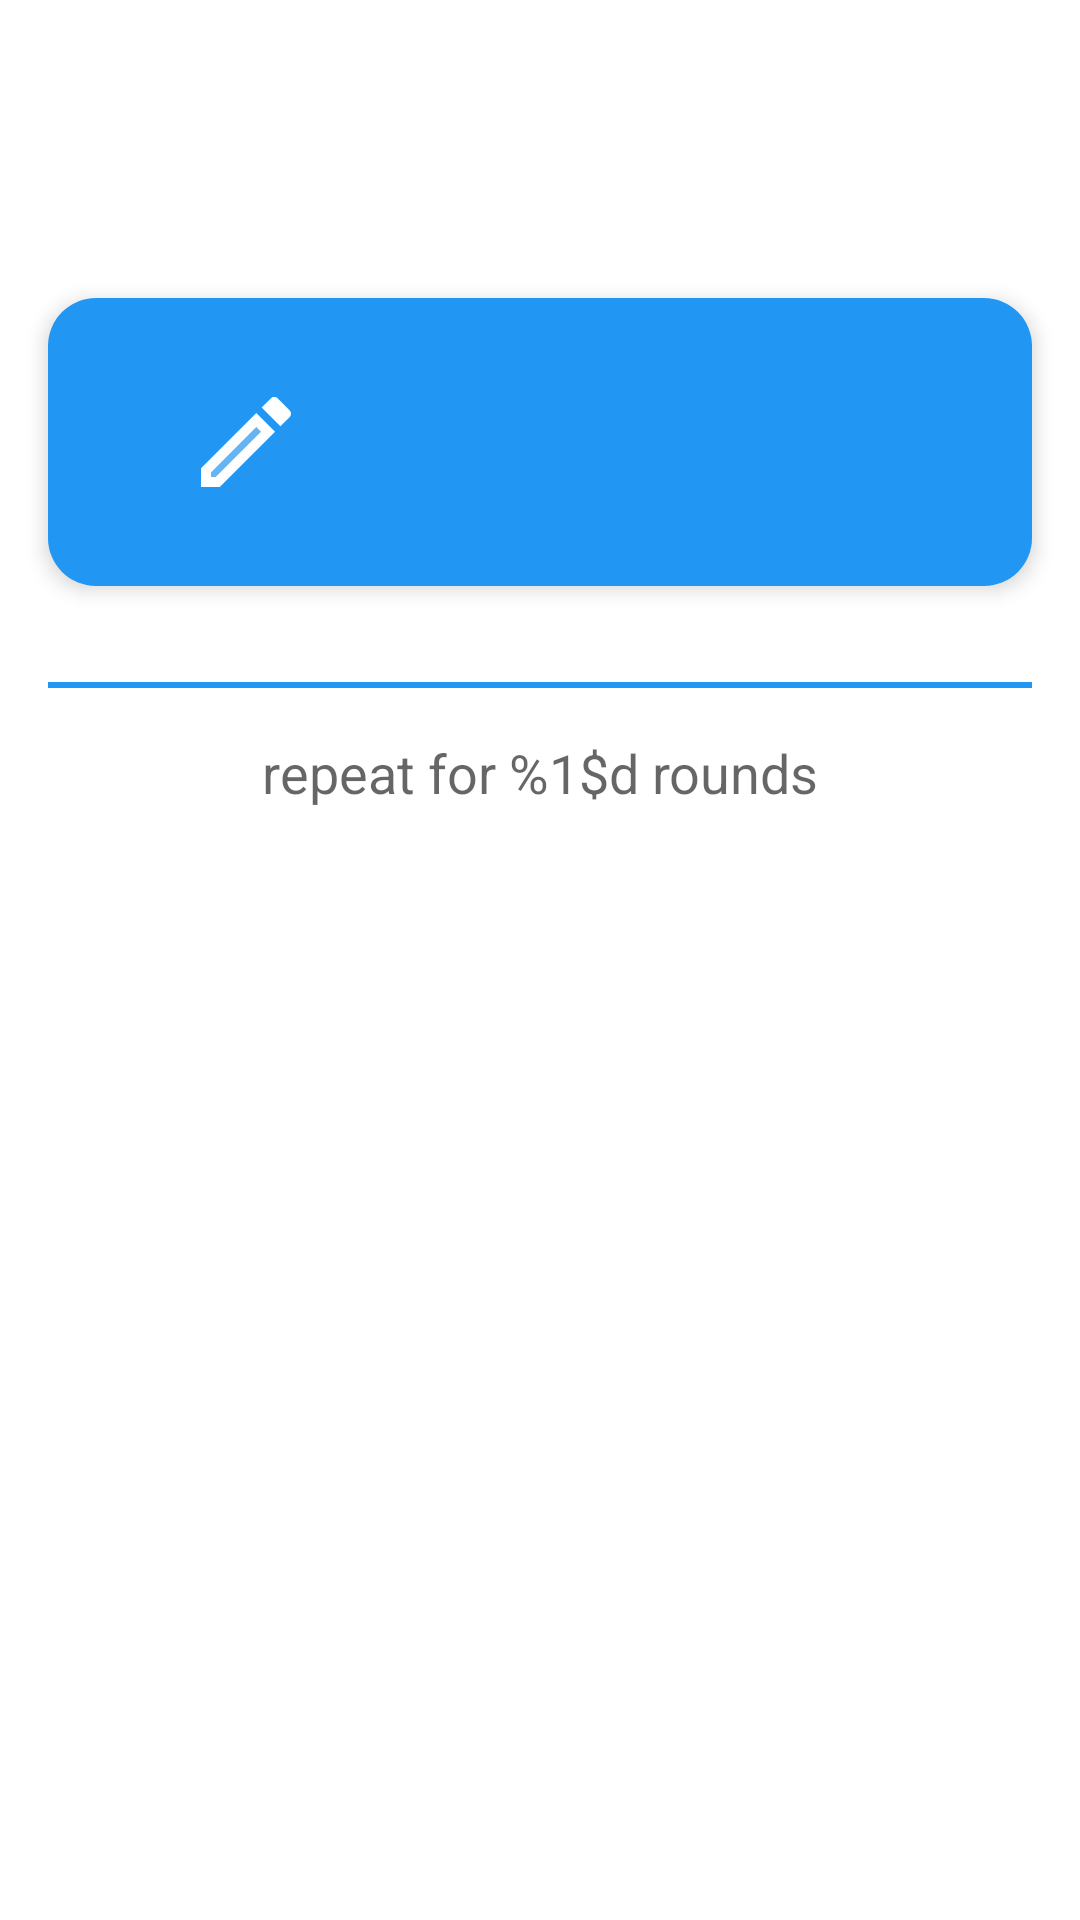

Icon bounding boxes for this 1080px×1920px phone screenshot, format (x1, y1, x2, y2):
edit pencil: (201, 397, 291, 487)
